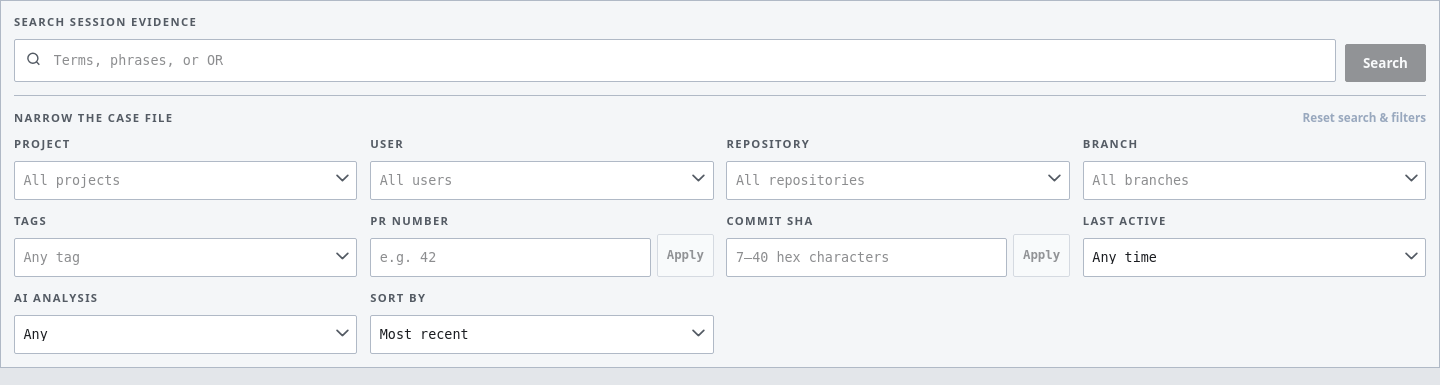
Scenario: Apply is inert until its own draft differs from the filter it applies
Expected: the button "Apply" below "PR number" is disabled, [657,234,714,277]
Type "42" into the field labelled "PR number" at [510, 258], box [370,238,651,277]
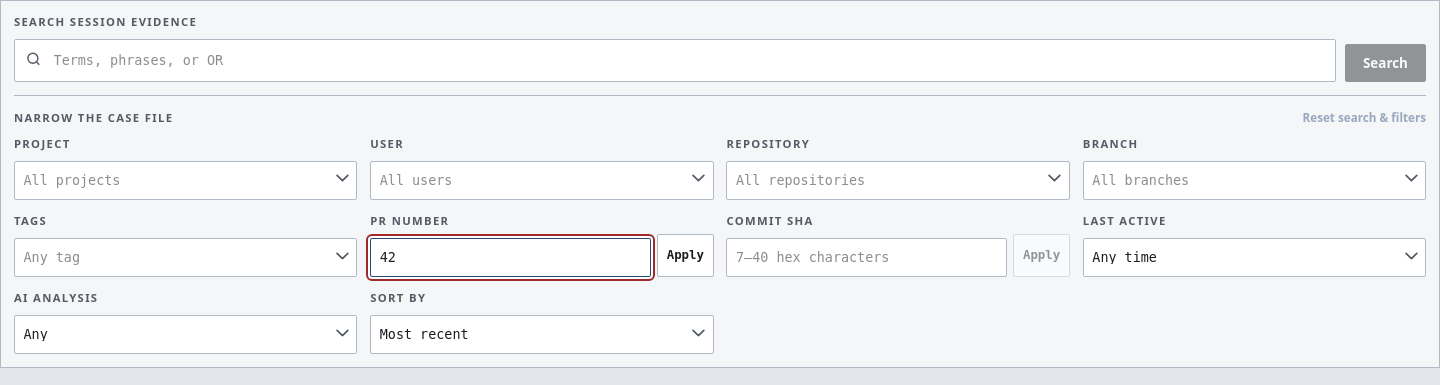
Result: the button "Apply" below "PR number" is enabled at [657,234,714,277]
